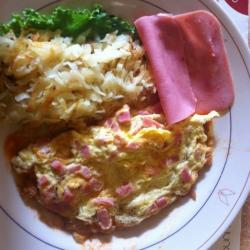omelette: (23, 117, 211, 227)
salad: (1, 6, 131, 42)
